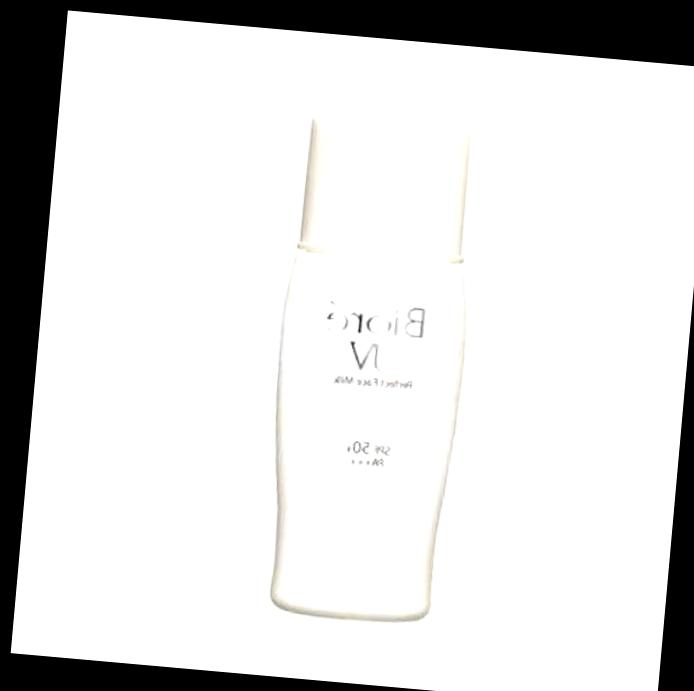cosmetic: (254, 110, 479, 628)
